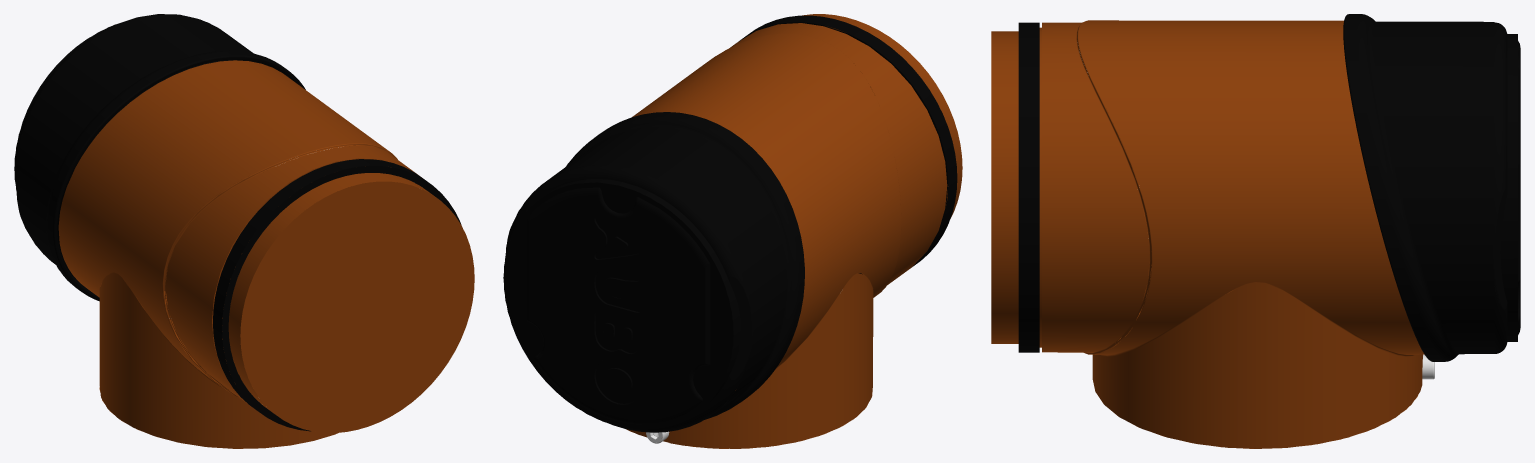
The model's file is wrist2_Link.DAE.
3 renders of one model, left to right at view 1: azimuth 30°, elevation 25°; view 2: azimuth 150°, elevation 25°; view 3: azimuth 270°, elevation 25°, orthographic. The views are drawn at different scales.
Parts seen in each view (by area): view 1: NONE-DC_Shell_ncl1_1, NONE-DC_Shell_ncl1_2, NONE-DC_Shell_ncl1_3, NONE-DC_Shell; view 2: NONE-DC_Shell_ncl1_3, NONE-DC_Shell_ncl1_1, NONE-DC_Shell, NONE-DC_Shell_ncl1_2; view 3: NONE-DC_Shell_ncl1_1, NONE-DC_Shell_ncl1_3, NONE-DC_Shell_ncl1_2, NONE-DC_Shell.
Part boxes in pixels (x1,y1,x2,y2): NONE-DC_Shell_ncl1_1: (58,60,419,448); NONE-DC_Shell_ncl1_2: (228,173,474,432); NONE-DC_Shell_ncl1_3: (14,14,305,301); NONE-DC_Shell: (213,159,461,431); NONE-DC_Shell_ncl1_3: (503,112,804,432); NONE-DC_Shell_ncl1_1: (626,23,947,448); NONE-DC_Shell: (738,15,957,274); NONE-DC_Shell_ncl1_2: (802,14,962,218); NONE-DC_Shell_ncl1_1: (1039,20,1424,448); NONE-DC_Shell_ncl1_3: (1343,14,1520,361); NONE-DC_Shell_ncl1_2: (991,31,1018,343); NONE-DC_Shell: (1018,22,1039,352).
Size of the model in its own units: 0.079 by 0.1202 by 0.0874.
